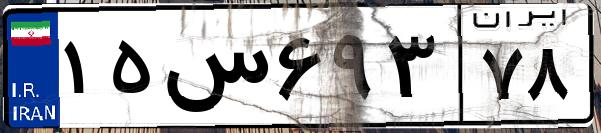1: (57, 26, 110, 100)
3: (385, 28, 445, 110)
5: (110, 28, 158, 98)
6: (270, 28, 330, 110)
7: (475, 38, 525, 113)
8: (525, 38, 570, 115)
9: (330, 28, 385, 110)
س: (158, 20, 270, 120)
